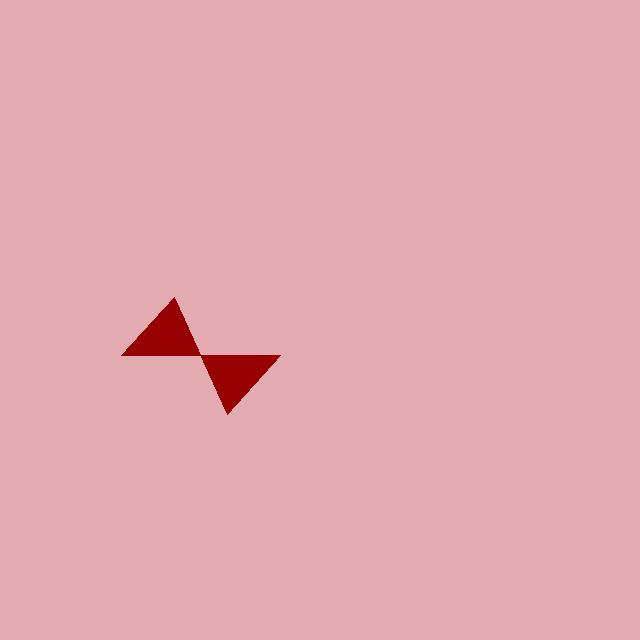laceration: (121, 297, 280, 414)
